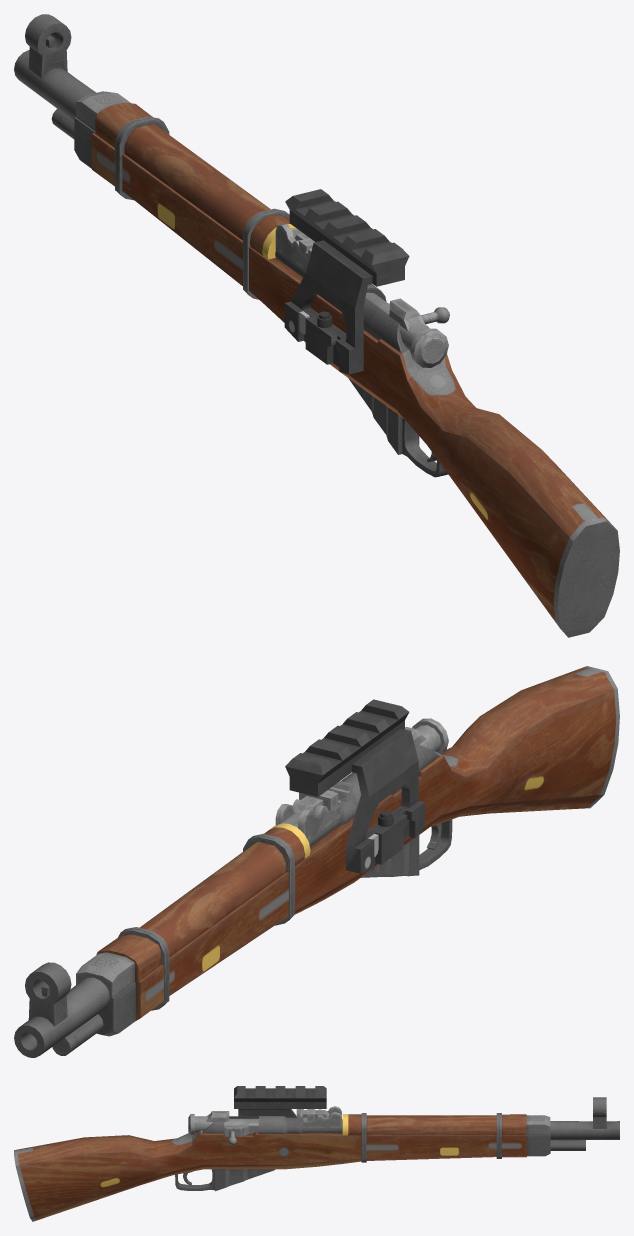
The model's file is IG_Gun_Mosin.fbx.
The picture shows the model from 3 angles, top to bottom: view 1: azimuth 30°, elevation 25°; view 2: azimuth 150°, elevation 25°; view 3: azimuth 270°, elevation 25°; orthographic projection. The views are drawn at different scales.
Parts seen in each view (by area): view 1: WPN_Mosin, ShowIf_Scope; view 2: WPN_Mosin, ShowIf_Scope; view 3: WPN_Mosin, ShowIf_Scope.
Part boxes in pixels (box(x1,y1,x2,y2)): WPN_Mosin: box(14, 14, 619, 637); ShowIf_Scope: box(284, 189, 409, 374); WPN_Mosin: box(14, 666, 619, 1057); ShowIf_Scope: box(285, 699, 424, 873); WPN_Mosin: box(14, 1097, 619, 1221); ShowIf_Scope: box(234, 1086, 326, 1117).
Size of the model in its own units: 0.1338 by 0.3289 by 1.39.
